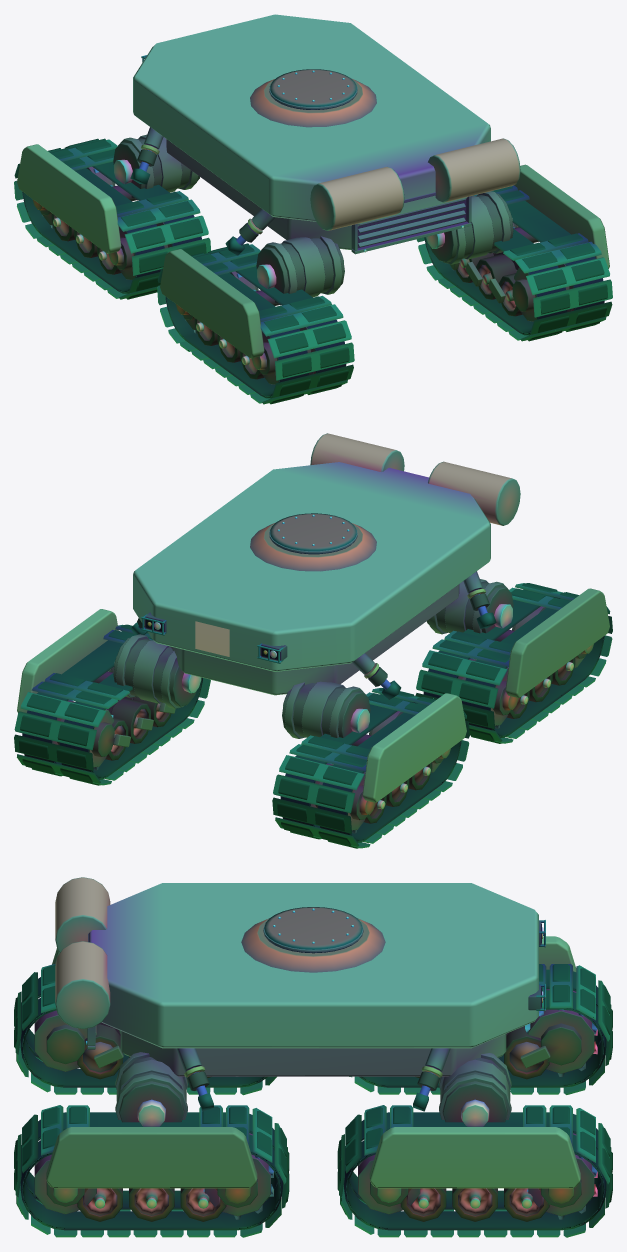
Rendered from legs_tread_siege.glb.
3 renders of one model, top to bottom at view 1: azimuth 30°, elevation 25°; view 2: azimuth 150°, elevation 25°; view 3: azimuth 270°, elevation 25°, orthographic. The views are drawn at different scales.
Parts seen in each view (by area): view 1: Body__armor, Track_L__rubber, Track_L__gunmetal, Body__armor_sub, Track_R__rubber, Track_R__gunmetal, Track_L__armor_sub, Track_L__armor, Track_L__dark, Body__dark, Track_R__armor_sub, Body__gunmetal (+3 smaller); view 2: Body__armor, Track_L__rubber, Track_L__gunmetal, Body__armor_sub, Track_R__rubber, Track_R__gunmetal, Track_L__armor_sub, Track_L__armor, Track_L__dark, Track_R__armor, Body__dark, Body__armor_oxide (+4 smaller); view 3: Body__armor, Track_R__rubber, Track_R__gunmetal, Track_R__armor_sub, Body__armor_sub, Track_R__armor, Track_L__rubber, Track_L__gunmetal, Track_R__dark, Body__dark, Body__armor_oxide, Track_L__dark (+5 smaller).
Part boxes in pixels (left/top/right/bottom): Body__armor: left=133, top=14, right=490, bottom=226; Track_L__rubber: left=22, top=138, right=349, bottom=404; Track_L__gunmetal: left=14, top=127, right=354, bottom=404; Body__armor_sub: left=166, top=138, right=520, bottom=249; Track_R__rubber: left=424, top=186, right=607, bottom=341; Track_R__gunmetal: left=416, top=185, right=612, bottom=341; Track_L__armor_sub: left=57, top=217, right=266, bottom=373; Track_L__armor: left=17, top=144, right=121, bottom=253; Track_L__dark: left=39, top=138, right=344, bottom=374; Body__dark: left=270, top=69, right=466, bottom=247; Track_R__armor_sub: left=458, top=164, right=609, bottom=310; Body__gunmetal: left=141, top=55, right=471, bottom=254; Body__armor: left=133, top=462, right=490, bottom=671; Track_L__rubber: left=277, top=583, right=604, bottom=848; Track_L__gunmetal: left=272, top=571, right=612, bottom=848; Body__armor_sub: left=170, top=433, right=520, bottom=695; Track_R__rubber: left=19, top=618, right=202, bottom=785; Track_R__gunmetal: left=14, top=624, right=210, bottom=785; Track_L__armor_sub: left=370, top=588, right=609, bottom=817; Track_L__armor: left=362, top=693, right=466, bottom=802; Track_L__dark: left=282, top=582, right=586, bottom=820; Track_R__armor: left=17, top=609, right=118, bottom=712; Body__dark: left=144, top=513, right=356, bottom=660; Body__armor_oxide: left=250, top=523, right=376, bottom=571; Body__armor: left=88, top=883, right=538, bottom=1048; Track_R__rubber: left=14, top=1071, right=612, bottom=1230; Track_R__gunmetal: left=15, top=1048, right=611, bottom=1237; Track_R__armor_sub: left=46, top=1127, right=543, bottom=1215; Body__armor_sub: left=55, top=877, right=506, bottom=1076; Track_R__armor: left=369, top=1127, right=580, bottom=1188; Track_L__rubber: left=14, top=964, right=612, bottom=1087; Track_L__gunmetal: left=15, top=964, right=611, bottom=1095; Track_R__dark: left=46, top=1057, right=581, bottom=1207; Body__dark: left=264, top=907, right=541, bottom=1010; Body__armor_oxide: left=241, top=918, right=385, bottom=972; Track_L__dark: left=46, top=1022, right=581, bottom=1065.
Bounding box in the file's own units: 2.72 × 1.42 × 3.48.
